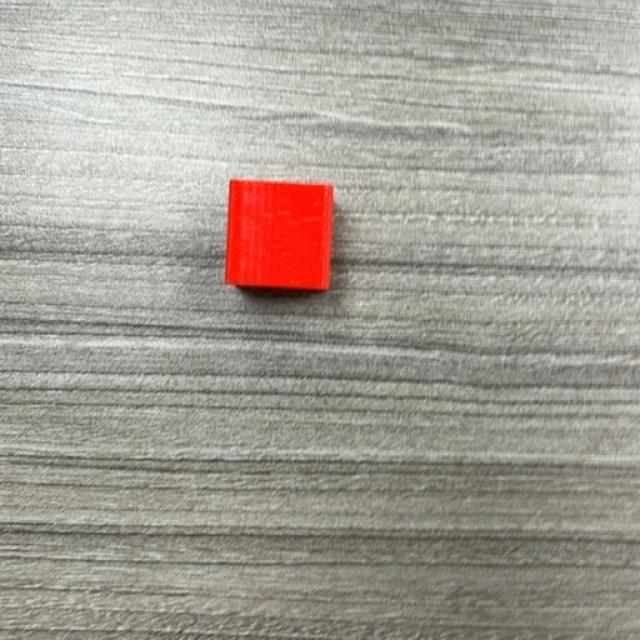Rojo: (226, 179, 334, 295)
